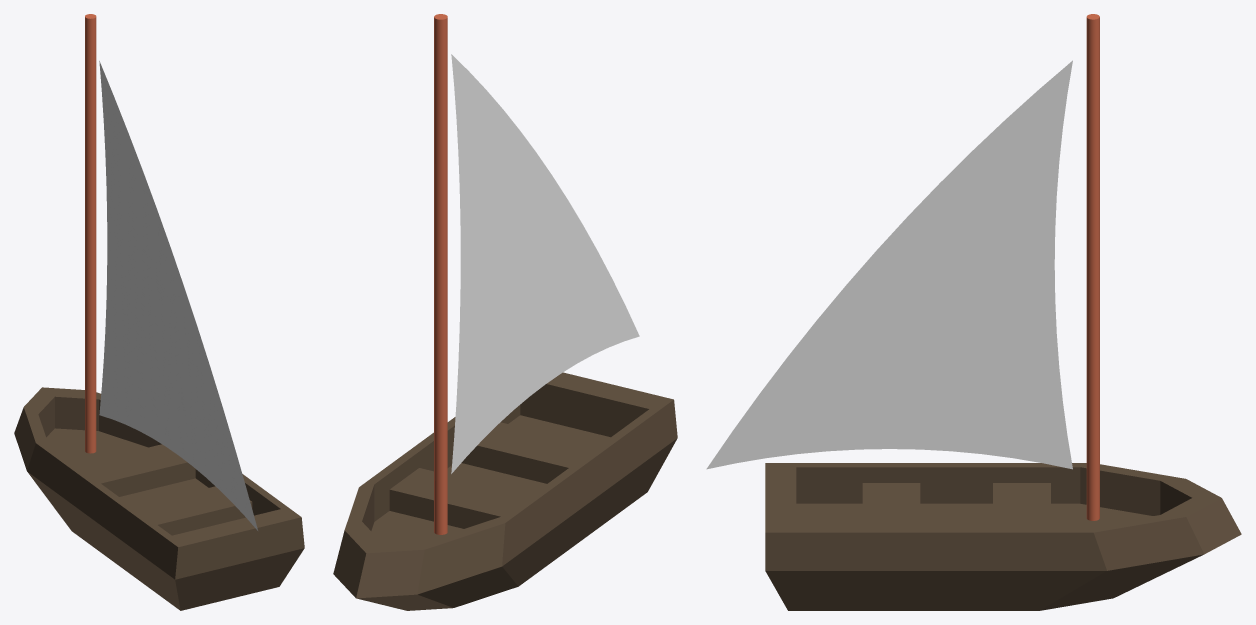
Rendered from Boat_Two.glb.
The picture shows the model from 3 angles, left to right: view 1: azimuth 30°, elevation 25°; view 2: azimuth 150°, elevation 25°; view 3: azimuth 270°, elevation 25°; orthographic projection. The views are drawn at different scales.
Parts seen in each view (by area): view 1: mergedBlocks(Clone); view 2: mergedBlocks(Clone); view 3: mergedBlocks(Clone).
Boxes of the visible parts, x1,y1,x2,y2 form: mergedBlocks(Clone): (14, 14, 304, 610); mergedBlocks(Clone): (333, 14, 677, 610); mergedBlocks(Clone): (706, 14, 1241, 610).
Bounding box in the file's own units: 1.29 × 4.62 × 3.99.
